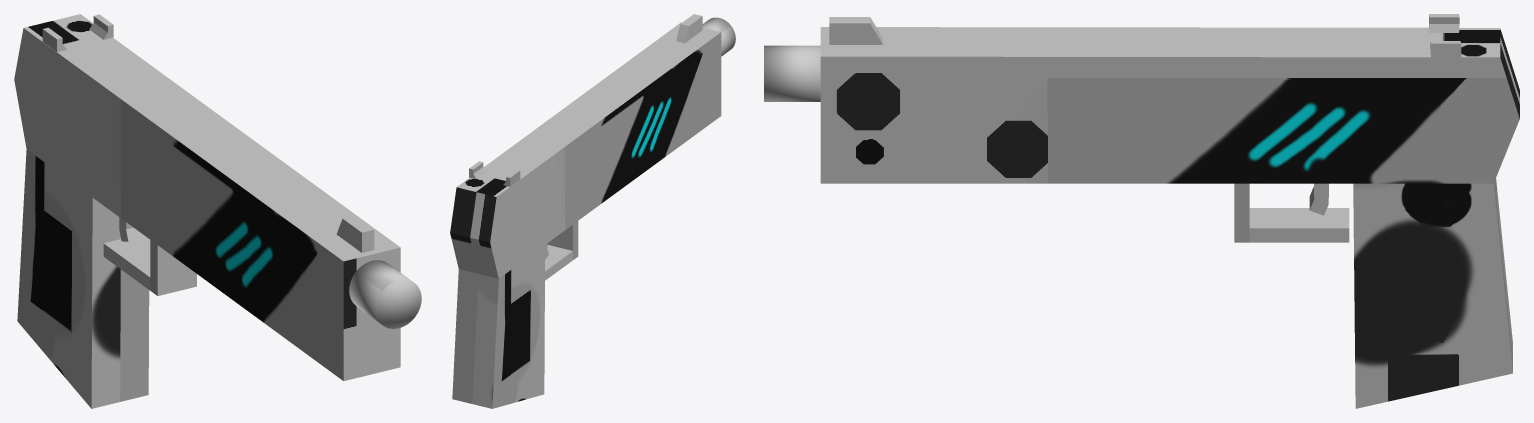
File: MMGun1.fbx
The picture shows the model from 3 angles, left to right: view 1: azimuth 30°, elevation 25°; view 2: azimuth 150°, elevation 25°; view 3: azimuth 270°, elevation 25°; orthographic projection. The views are drawn at different scales.
Visible parts, largest first — view 1: Cylinder.002; view 2: Cylinder.002; view 3: Cylinder.002.
Boxes of the visible parts, x1,y1,x2,y2 form: Cylinder.002: (14,14,421,408); Cylinder.002: (450,14,735,408); Cylinder.002: (764,14,1519,408).
Bounding box in the file's own units: 202 × 1179 × 2159.
